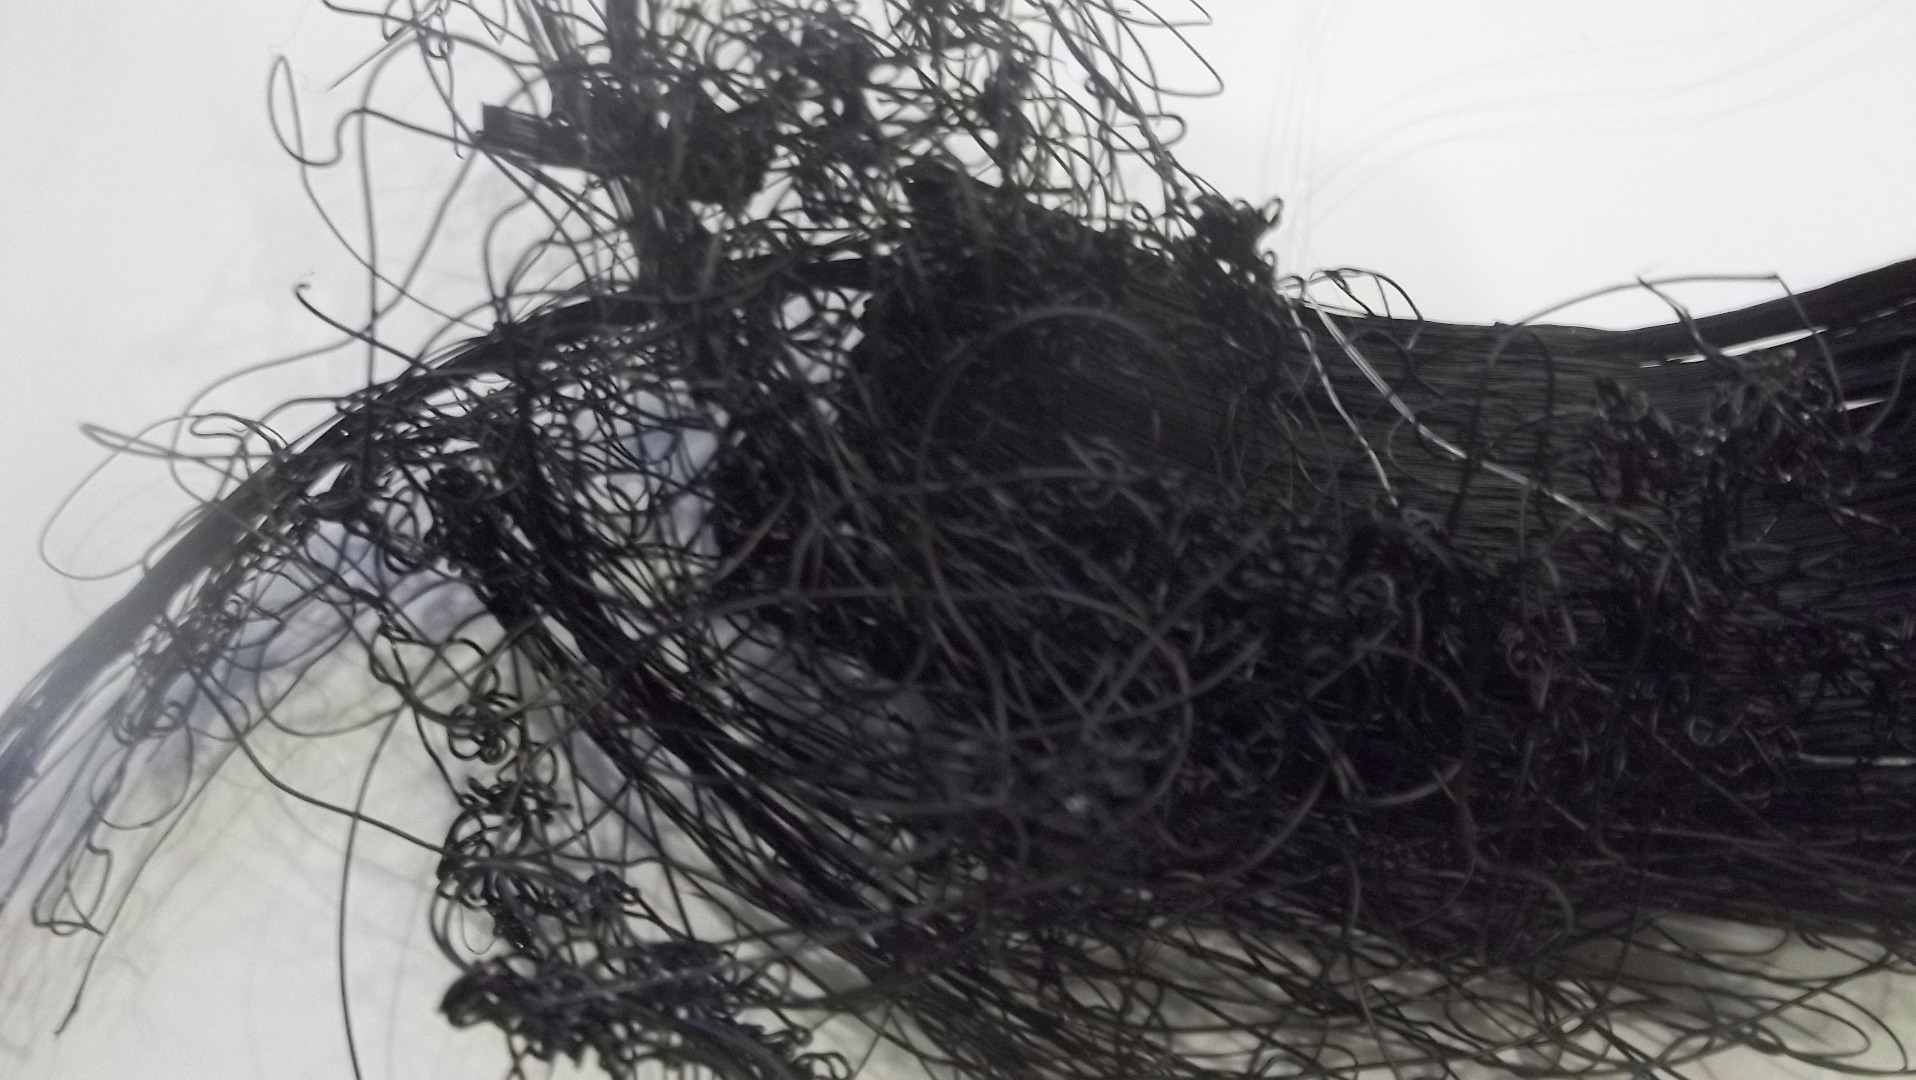Fail: (43, 5, 1916, 1033)
